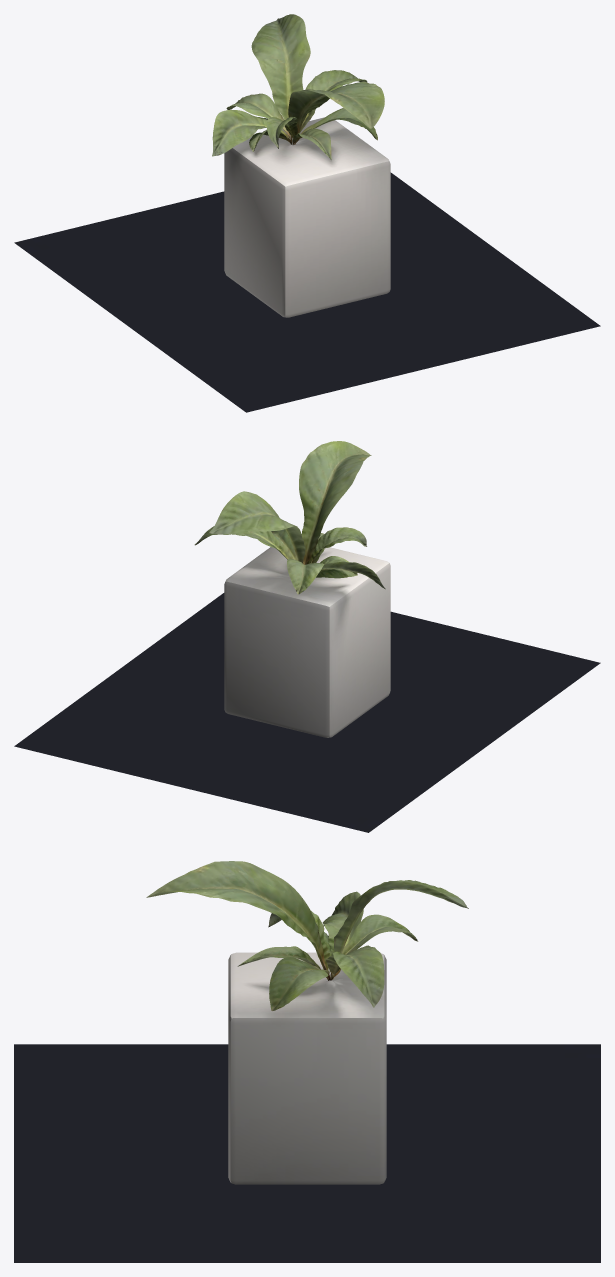
Rendered from plant.glb.
3 renders of one model, top to bottom at view 1: azimuth 30°, elevation 25°; view 2: azimuth 150°, elevation 25°; view 3: azimuth 270°, elevation 25°, orthographic. The views are drawn at different scales.
Parts seen in each view (by area): view 1: plant_contact_shadow, planter, plant; view 2: plant_contact_shadow, planter, plant; view 3: plant_contact_shadow, planter, plant.
Boxes of the visible parts, x1,y1,x2,y2 form: plant_contact_shadow: (14,172,600,412); planter: (224,117,390,317); plant: (212,14,384,159); plant_contact_shadow: (14,593,600,832); planter: (224,547,390,737); plant: (194,441,385,594); plant_contact_shadow: (14,1044,600,1262); planter: (228,952,386,1184); plant: (146,861,468,1010).
Size of the model in its own units: 1.37 by 0.8548 by 1.56.
Materials: 2 (2 with a texture image).
